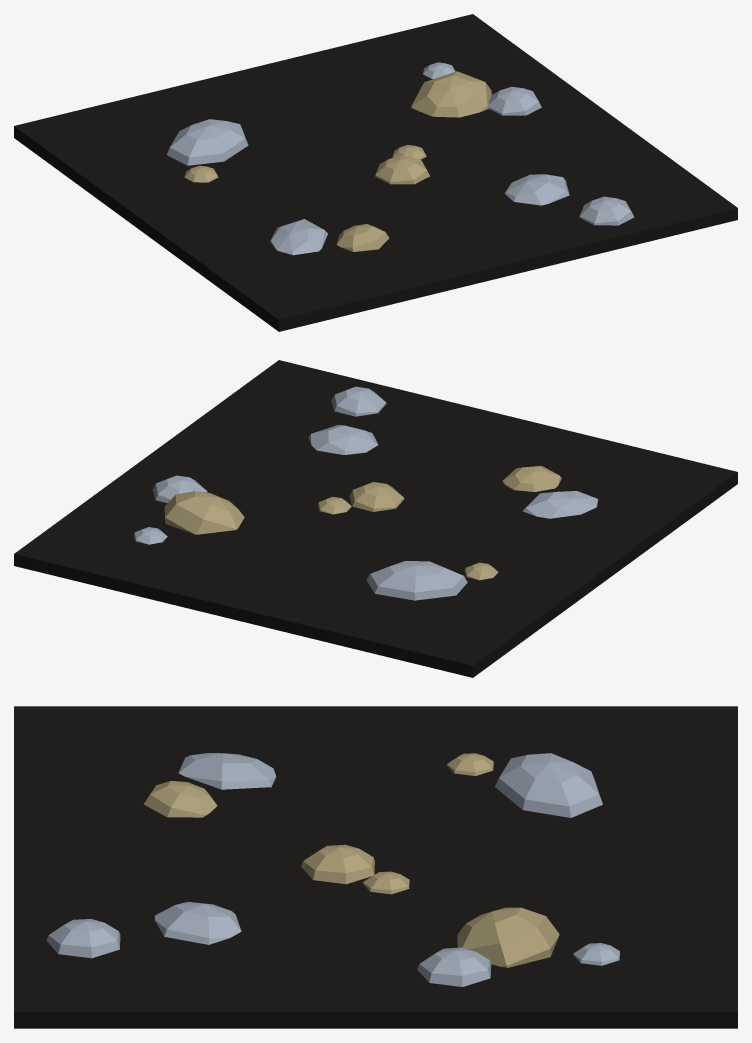
The model's file is tile.obj.
3 renders of one model, top to bottom at view 1: azimuth 30°, elevation 25°; view 2: azimuth 150°, elevation 25°; view 3: azimuth 270°, elevation 25°, orthographic. The views are drawn at different scales.
Visible parts, largest first — view 1: Cube, Sphere.002, Sphere, Sphere.004, Sphere.006, Sphere.003, Sphere.007, Sphere.005, Sphere.001; view 2: Cube, Sphere, Sphere.002, Sphere.004, Sphere.006, Sphere.003, Sphere.007, Sphere.001, Sphere.005; view 3: Cube, Sphere, Sphere.002, Sphere.006, Sphere.004, Sphere.007, Sphere.003, Sphere.005, Sphere.001, Sphere.008, Sphere.009, Sphere.010.
Part boxes in pixels (x1,y1,x2,y2): Cube: (14, 14, 737, 331); Sphere.002: (411, 71, 491, 117); Sphere: (166, 119, 248, 165); Sphere.004: (504, 174, 569, 205); Sphere.006: (270, 219, 327, 255); Sphere.003: (375, 155, 429, 184); Sphere.007: (579, 196, 634, 225); Sphere.005: (488, 86, 541, 115); Sphere.001: (336, 224, 389, 251); Cube: (14, 360, 737, 677); Sphere: (366, 561, 467, 600); Sphere.002: (164, 491, 244, 534); Sphere.004: (308, 425, 378, 454); Sphere.006: (522, 491, 598, 518); Sphere.003: (349, 482, 404, 511); Sphere.007: (331, 386, 386, 416); Sphere.001: (502, 466, 561, 491); Sphere.005: (152, 475, 207, 503); Cube: (14, 706, 737, 1028); Sphere: (495, 753, 602, 817); Sphere.002: (457, 907, 559, 967); Sphere.006: (178, 753, 276, 789); Sphere.004: (154, 902, 241, 944); Sphere.007: (46, 919, 120, 958); Sphere.003: (301, 844, 374, 884); Sphere.005: (417, 947, 491, 986); Sphere.001: (143, 781, 217, 817); Sphere.008: (362, 871, 409, 894); Sphere.009: (446, 753, 493, 775); Sphere.010: (573, 943, 619, 965).
Size of the model in its own units: 4 by 0.5933 by 4.
